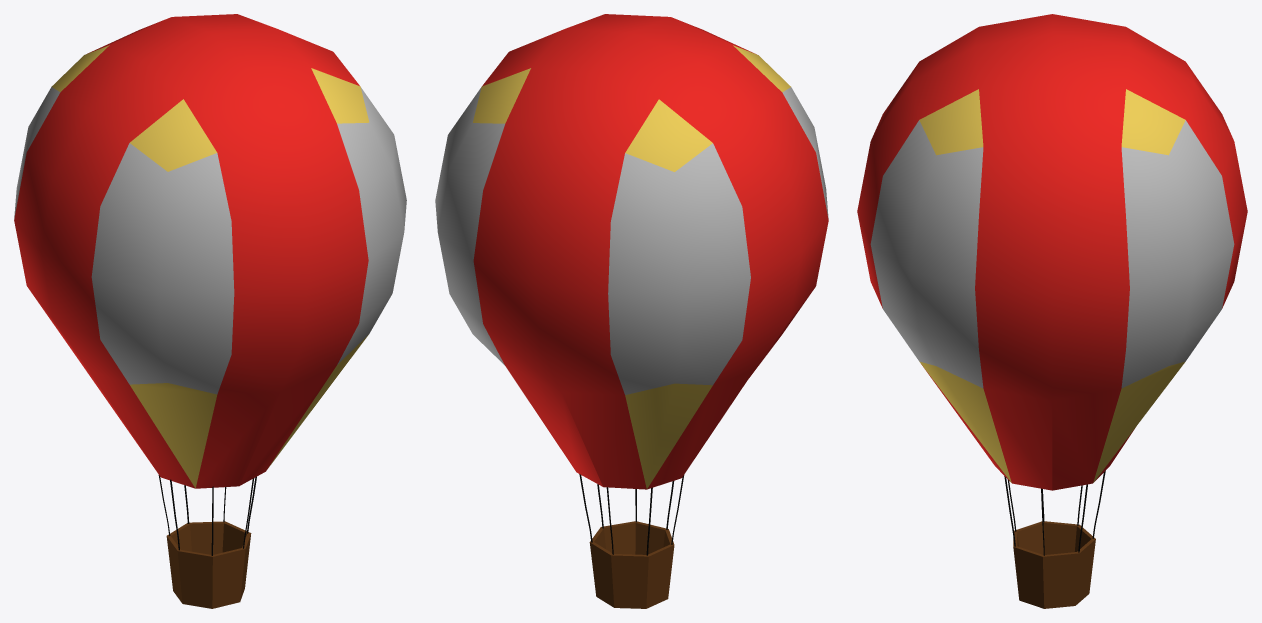
File: GlobueloProp.fbx
3 views of the same model, side by side, from view 1: azimuth 30°, elevation 25°; view 2: azimuth 150°, elevation 25°; view 3: azimuth 270°, elevation 25° (orthographic).
Parts seen in each view (by area): view 1: Globuelo; view 2: Globuelo; view 3: Globuelo.
Part boxes in pixels (box(x1,y1,x2,y2)): Globuelo: box(14, 14, 406, 608); Globuelo: box(435, 14, 828, 608); Globuelo: box(857, 14, 1247, 608).
Bounding box in the file's own units: 6.78 × 10.71 × 6.78.
